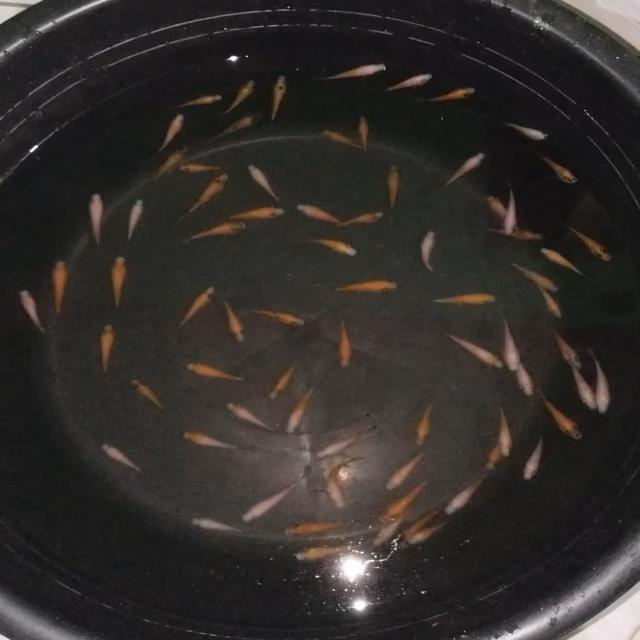nila: (242, 474, 306, 526), (442, 466, 495, 518), (446, 330, 512, 370), (538, 390, 586, 444), (388, 502, 441, 550), (376, 476, 428, 524), (313, 423, 377, 461), (437, 149, 487, 195), (502, 258, 564, 295), (562, 222, 616, 264), (172, 284, 220, 330), (382, 446, 428, 494), (184, 170, 230, 217), (224, 400, 282, 437), (327, 454, 360, 514), (206, 112, 260, 148), (178, 426, 246, 454), (183, 359, 250, 386), (290, 538, 364, 562), (314, 60, 394, 81), (245, 160, 283, 204), (150, 112, 186, 158), (218, 77, 258, 118), (183, 219, 246, 245), (97, 440, 145, 474), (286, 381, 316, 435), (278, 515, 355, 536), (18, 286, 50, 336), (538, 152, 582, 188), (540, 242, 584, 278), (188, 514, 251, 539), (370, 504, 407, 546), (127, 374, 167, 412), (381, 70, 438, 96), (160, 92, 226, 114), (247, 304, 310, 327), (220, 298, 250, 346), (265, 360, 300, 401), (396, 522, 455, 546), (146, 146, 184, 182), (302, 232, 359, 256), (330, 277, 402, 296), (266, 70, 288, 132), (571, 362, 597, 414), (413, 398, 439, 449), (296, 202, 346, 228), (489, 194, 522, 232), (221, 204, 287, 223), (500, 118, 552, 142), (497, 184, 519, 240), (536, 277, 564, 320), (500, 314, 520, 374), (594, 352, 612, 418), (524, 434, 548, 482), (50, 258, 69, 318), (427, 292, 498, 308), (87, 192, 105, 255), (110, 253, 128, 316), (97, 322, 116, 381), (552, 330, 580, 370), (335, 318, 356, 371), (485, 224, 546, 242), (334, 208, 384, 228), (353, 112, 375, 156), (498, 406, 515, 462), (322, 129, 363, 152), (429, 85, 476, 105), (384, 161, 404, 206), (418, 228, 438, 272), (126, 197, 143, 244), (178, 160, 223, 176), (516, 364, 532, 401), (487, 446, 505, 470)
